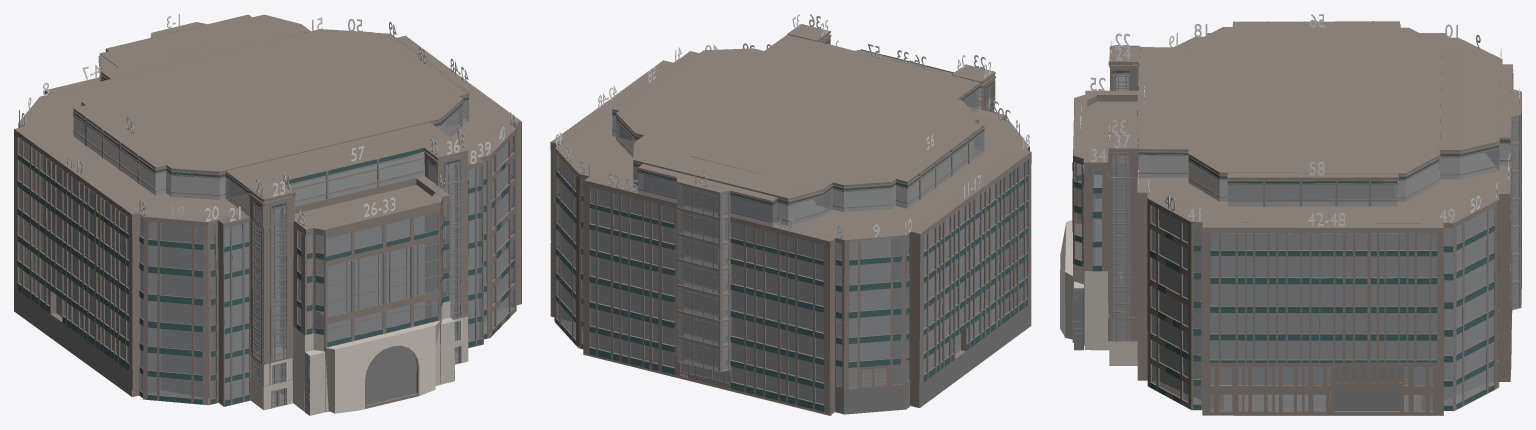
Rendered from 1AppoldStreet.glb.
3 views of the same model, side by side, from view 1: azimuth 30°, elevation 25°; view 2: azimuth 150°, elevation 25°; view 3: azimuth 270°, elevation 25° (orthographic). The views are drawn at different scales.
Parts seen in each view (by area): view 1: Cube.002, Drop19, Drop56, Drop21, Drop57, Drop40, Drop29, Drop28, Drop30, Drop31, Drop38, Drop23 (+15 smaller); view 2: Cube.002, Drop9, Drop2, Drop56, Drop4, Drop7, Drop55, Drop5, Drop54, Drop52, Drop50, Drop3 (+12 smaller); view 3: Cube.002, Drop58, Drop50, Drop40, Drop42, Drop44, Drop45, Drop43, Drop48, Drop46, Drop37, Drop47 (+5 smaller).
Boxes of the visible parts, left/top/right/bottom form: Cube.002: left=14, top=14, right=521, bottom=415; Drop19: left=148, top=222, right=203, bottom=398; Drop56: left=73, top=73, right=249, bottom=216; Drop21: left=224, top=222, right=249, bottom=399; Drop57: left=287, top=154, right=424, bottom=206; Drop40: left=492, top=137, right=513, bottom=328; Drop29: left=354, top=225, right=382, bottom=335; Drop28: left=325, top=233, right=351, bottom=342; Drop30: left=386, top=219, right=410, bottom=327; Drop31: left=414, top=212, right=437, bottom=321; Drop38: left=468, top=166, right=482, bottom=341; Drop23: left=271, top=203, right=286, bottom=383; Cube.002: left=550, top=24, right=1031, bottom=415; Drop9: left=849, top=238, right=901, bottom=361; Drop2: left=683, top=185, right=713, bottom=369; Drop56: left=778, top=88, right=984, bottom=225; Drop4: left=730, top=196, right=757, bottom=386; Drop7: left=798, top=239, right=823, bottom=403; Drop55: left=652, top=177, right=676, bottom=366; Drop5: left=756, top=203, right=777, bottom=392; Drop54: left=630, top=173, right=651, bottom=360; Drop52: left=590, top=187, right=610, bottom=351; Drop50: left=557, top=155, right=576, bottom=338; Drop3: left=714, top=193, right=728, bottom=371; Cube.002: left=1060, top=21, right=1521, bottom=415; Drop58: left=1138, top=149, right=1499, bottom=206; Drop50: left=1456, top=207, right=1494, bottom=403; Drop40: left=1151, top=206, right=1188, bottom=401; Drop42: left=1210, top=233, right=1245, bottom=411; Drop44: left=1275, top=233, right=1309, bottom=411; Drop45: left=1304, top=233, right=1342, bottom=411; Drop43: left=1244, top=233, right=1276, bottom=411; Drop48: left=1404, top=233, right=1437, bottom=411; Drop46: left=1345, top=233, right=1376, bottom=359; Drop37: left=1112, top=155, right=1129, bottom=341; Drop47: left=1379, top=233, right=1406, bottom=359.
Size of the model in its own units: 326 by 182 by 326.
